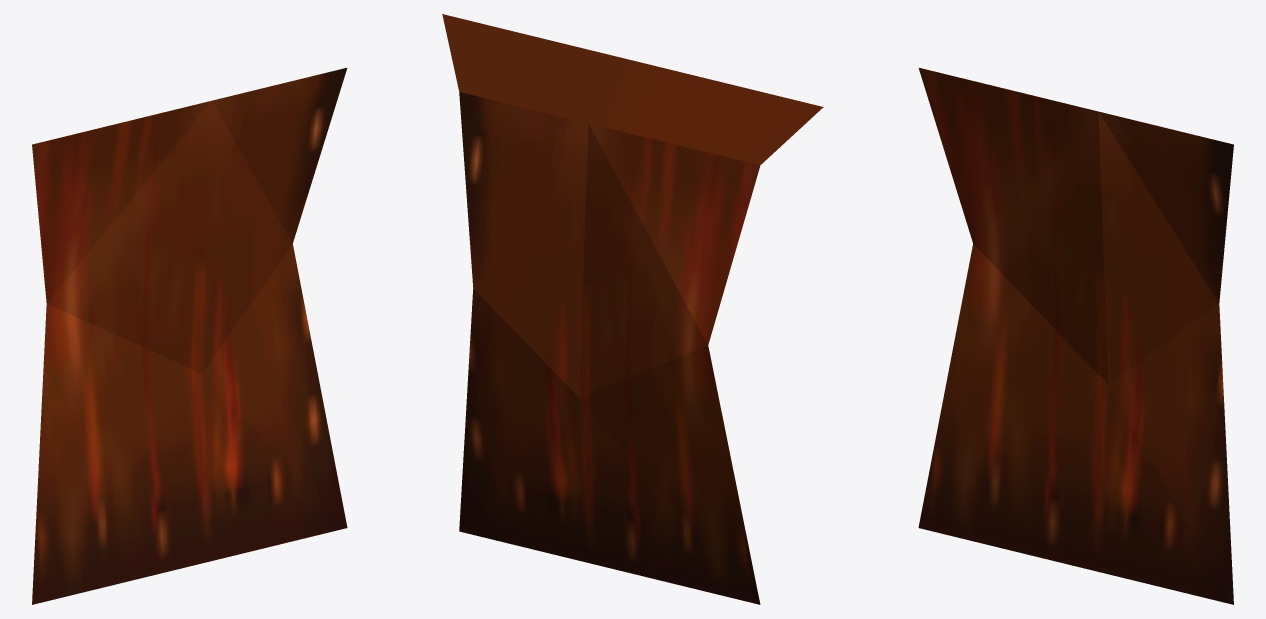
File: W_A1_x [Rostig]_939.glb
The picture shows the model from 3 angles, left to right: view 1: azimuth 30°, elevation 25°; view 2: azimuth 150°, elevation 25°; view 3: azimuth 330°, elevation 25°; orthographic projection. The views are drawn at different scales.
Parts seen in each view (by area): view 1: polySurfaceShape1201; view 2: polySurfaceShape1201, polySurfaceShape1203; view 3: polySurfaceShape1201.
Part boxes in pixels (x1,y1,x2,y2): polySurfaceShape1201: (32,68,347,604); polySurfaceShape1201: (459,92,760,604); polySurfaceShape1203: (442,14,823,165); polySurfaceShape1201: (918,68,1233,604).
Bounding box in the file's own units: 0.3166 × 0.3891 × 0.0607.
Materials: 2 (2 with a texture image).
